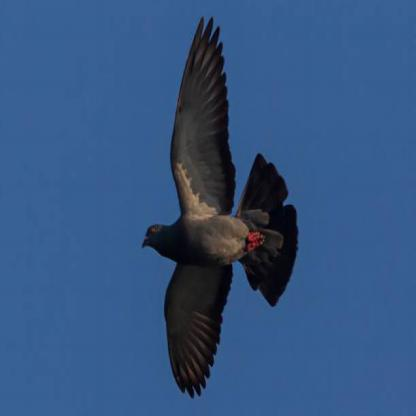Flying Rat: (146, 19, 289, 401)
